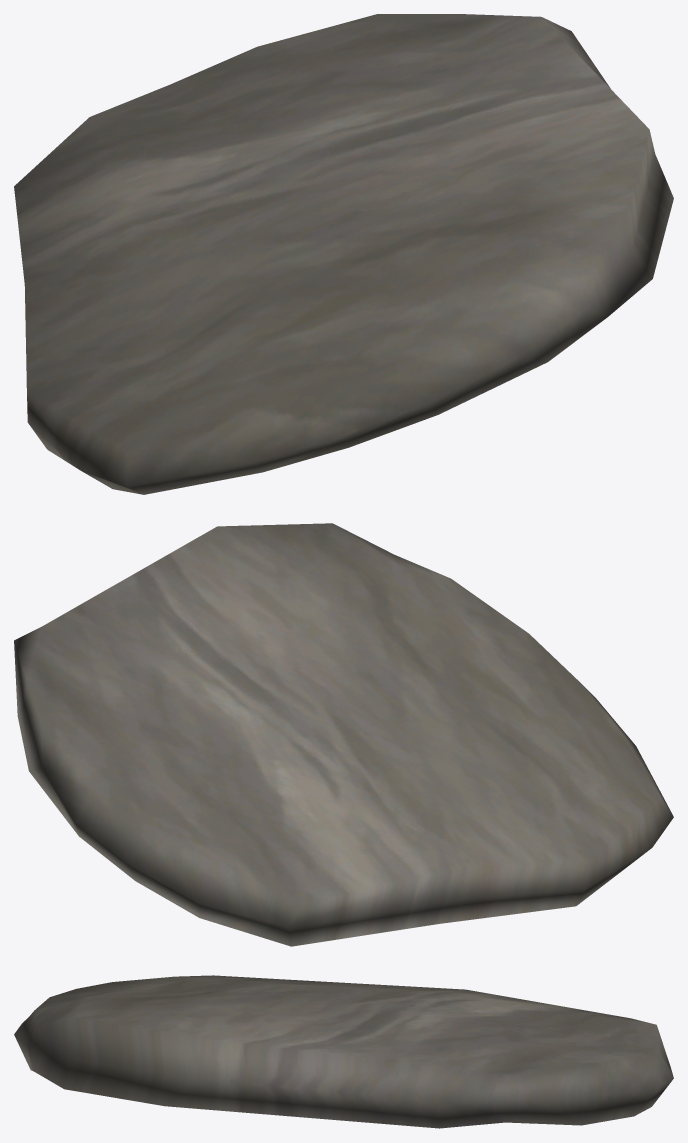
File: FlatStone14Shape.dae
3 views of the same model, one above another, from view 1: azimuth 30°, elevation 25°; view 2: azimuth 150°, elevation 25°; view 3: azimuth 270°, elevation 25° (orthographic). The views are drawn at different scales.
Parts seen in each view (by area): view 1: FlatStone14; view 2: FlatStone14; view 3: FlatStone14.
Part boxes in pixels (bbox=[...]): FlatStone14: bbox=[14, 14, 673, 494]; FlatStone14: bbox=[14, 523, 673, 946]; FlatStone14: bbox=[14, 975, 673, 1128].
Size of the model in its own units: 1.44 by 0.5745 by 1.52.
